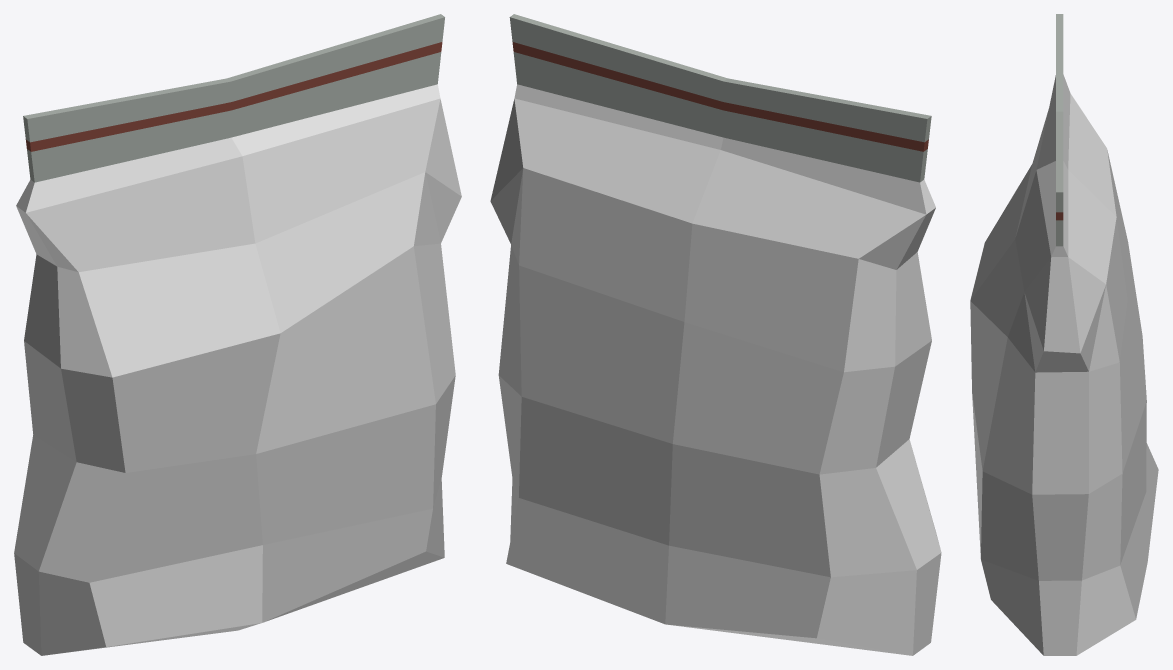
Rendered from SM_Prop_Evidence_Bag_03.fbx.
The picture shows the model from 3 angles, left to right: view 1: azimuth 30°, elevation 25°; view 2: azimuth 150°, elevation 25°; view 3: azimuth 270°, elevation 25°; orthographic projection. The views are drawn at different scales.
Parts seen in each view (by area): view 1: SM_Prop_Evidence_Bag_03; view 2: SM_Prop_Evidence_Bag_03; view 3: SM_Prop_Evidence_Bag_03.
Boxes of the visible parts, x1,y1,x2,y2 form: SM_Prop_Evidence_Bag_03: [14, 14, 461, 655]; SM_Prop_Evidence_Bag_03: [490, 14, 941, 655]; SM_Prop_Evidence_Bag_03: [970, 14, 1158, 655].
Size of the model in its own units: 31.71 by 39.15 by 13.73.
